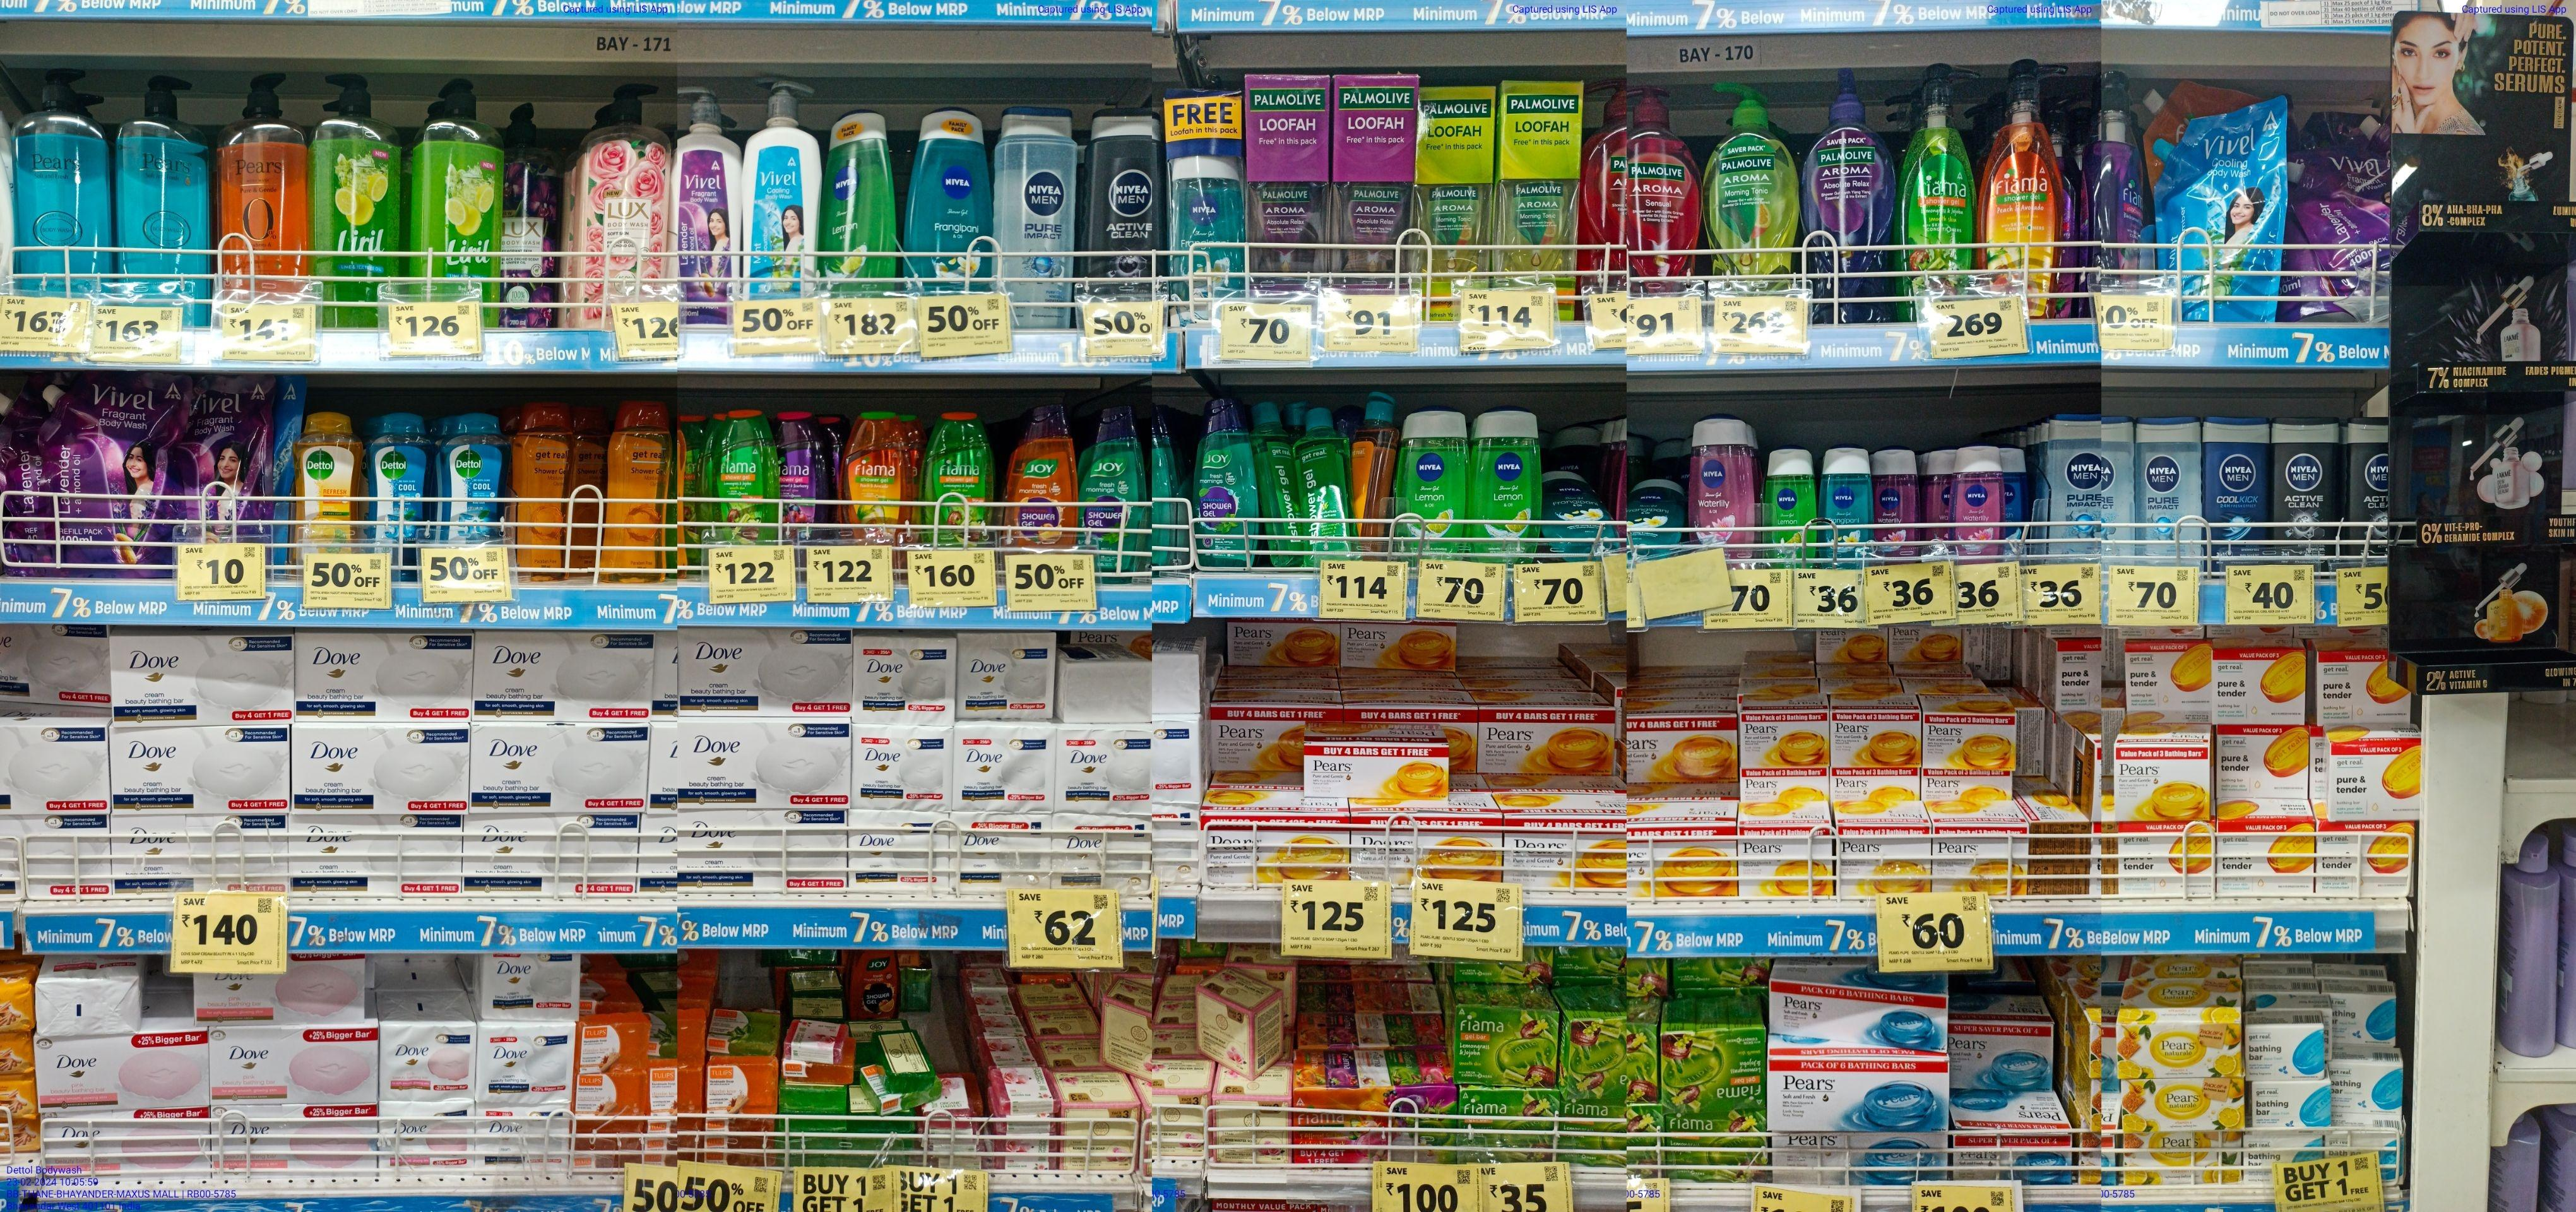Dettol_Bodywash_Cool: (370, 411, 434, 549), (439, 417, 504, 550)
Dettol_Bodywash_Refresh: (294, 411, 366, 545)
Fiama_Shower_Gel_Lemongrass_and_Jojoba_250ML: (917, 409, 994, 544), (705, 407, 779, 537)
Fiama_Shower_Gel_Peach_and_Avocado_250ML: (833, 409, 910, 544)
Get_Real_Shower_Gel_Moisturising_Glycerin_300ML: (603, 402, 670, 581)
Joy_Shower_Gel_Mandarin_and_Lemongrass_250ML: (1002, 389, 1078, 545)
Joy_Shower_Gel_Mint_and_Eucalyptus_250ML: (1194, 394, 1260, 568), (1078, 409, 1147, 560)
Nivea_Shower_Gel_Frangipani_and_Oil_250ML: (897, 113, 991, 287)
Nivea_Shower_Gel_Lemon_and_Oil_250ML: (825, 117, 899, 289), (1469, 411, 1543, 558), (1400, 414, 1465, 565)
Nivea_Shower_Gel_Waterlily_and_Oil_250ML: (1686, 415, 1756, 547)
